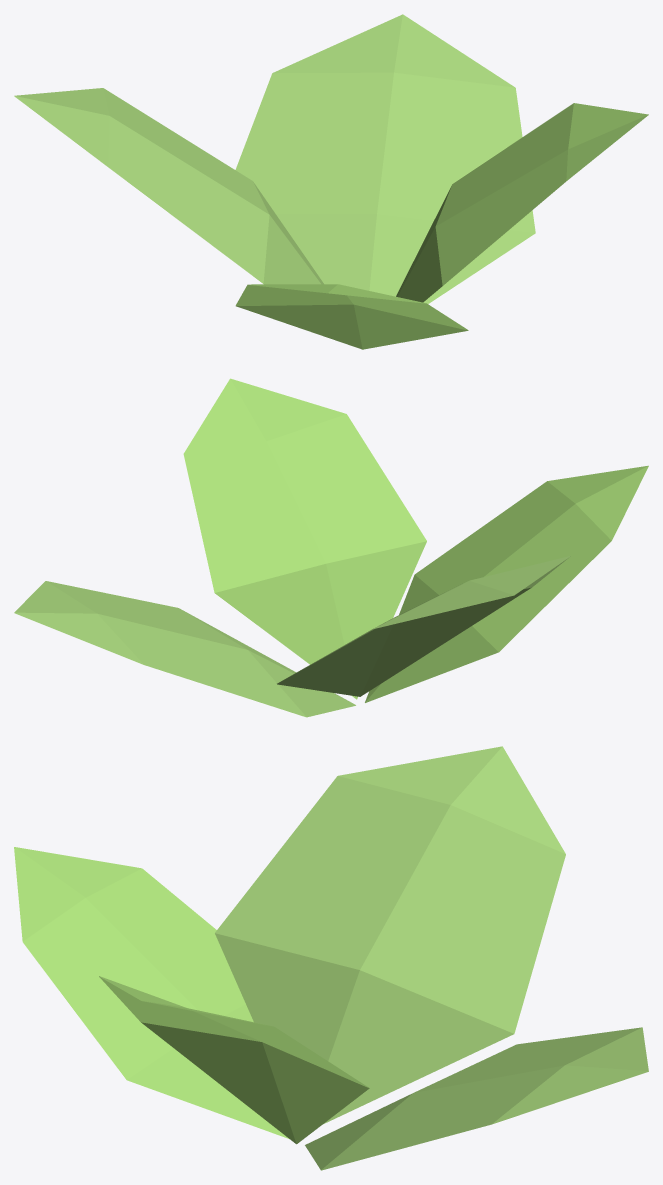
Rendered from Plant_h_TwoS_05.fbx.
The picture shows the model from 3 angles, top to bottom: view 1: azimuth 30°, elevation 25°; view 2: azimuth 150°, elevation 25°; view 3: azimuth 270°, elevation 25°; orthographic projection. The views are drawn at different scales.
Visible parts, largest first — view 1: Plant_h_TwoS_05; view 2: Plant_h_TwoS_05; view 3: Plant_h_TwoS_05.
Part boxes in pixels (x1=…): Plant_h_TwoS_05: x1=14, y1=14, x2=648, y2=349; Plant_h_TwoS_05: x1=14, y1=378, x2=648, y2=717; Plant_h_TwoS_05: x1=14, y1=746, x2=648, y2=1170.
Size of the model in its own units: 30.36 by 14.38 by 31.31.
